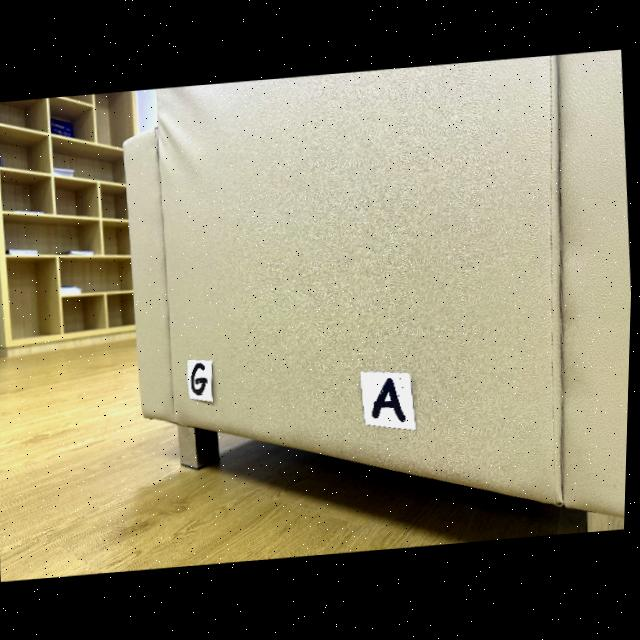A: (375, 380, 407, 422)
G: (194, 364, 208, 395)
